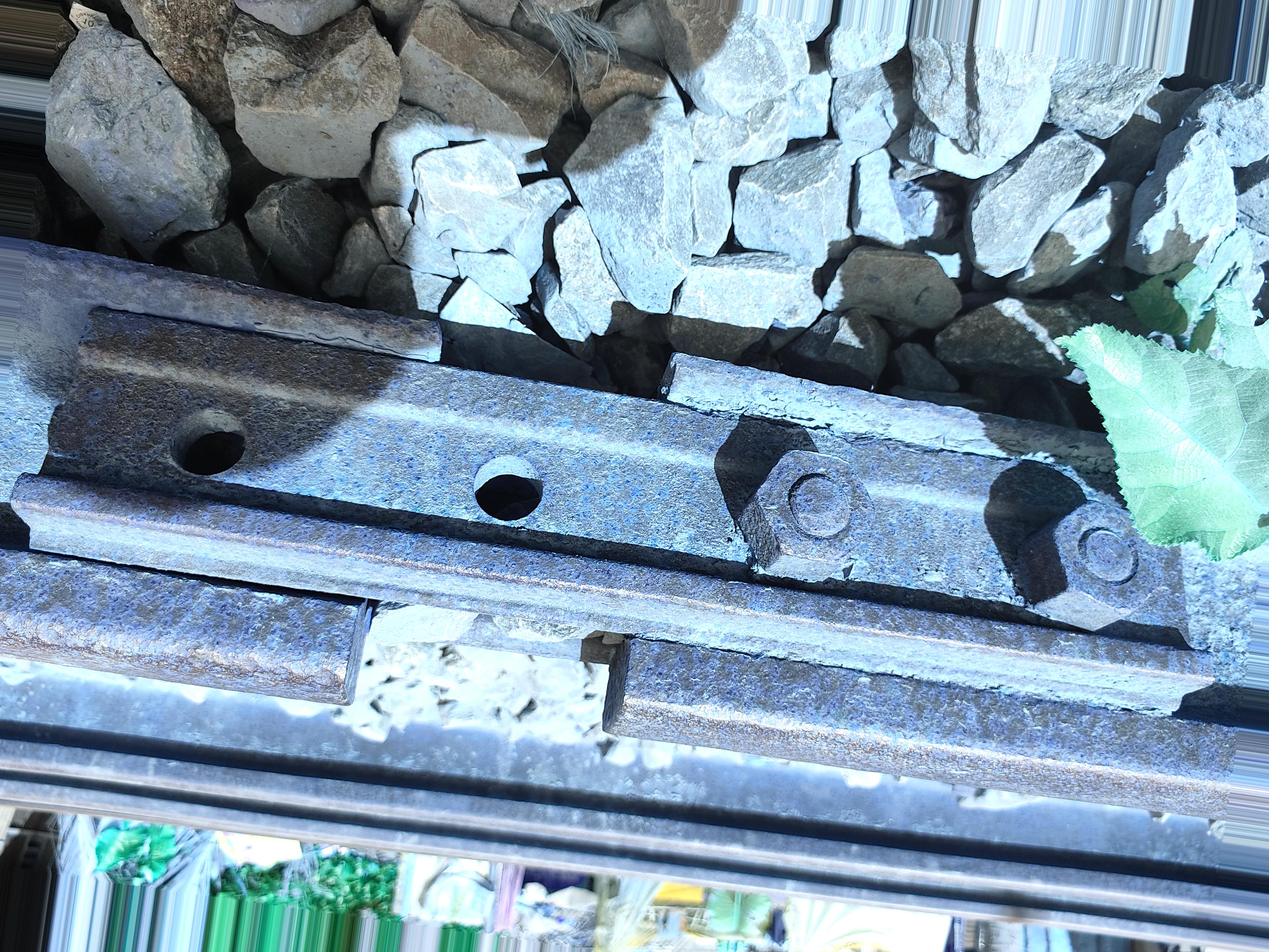tracks_fault: (316, 552, 702, 773)
